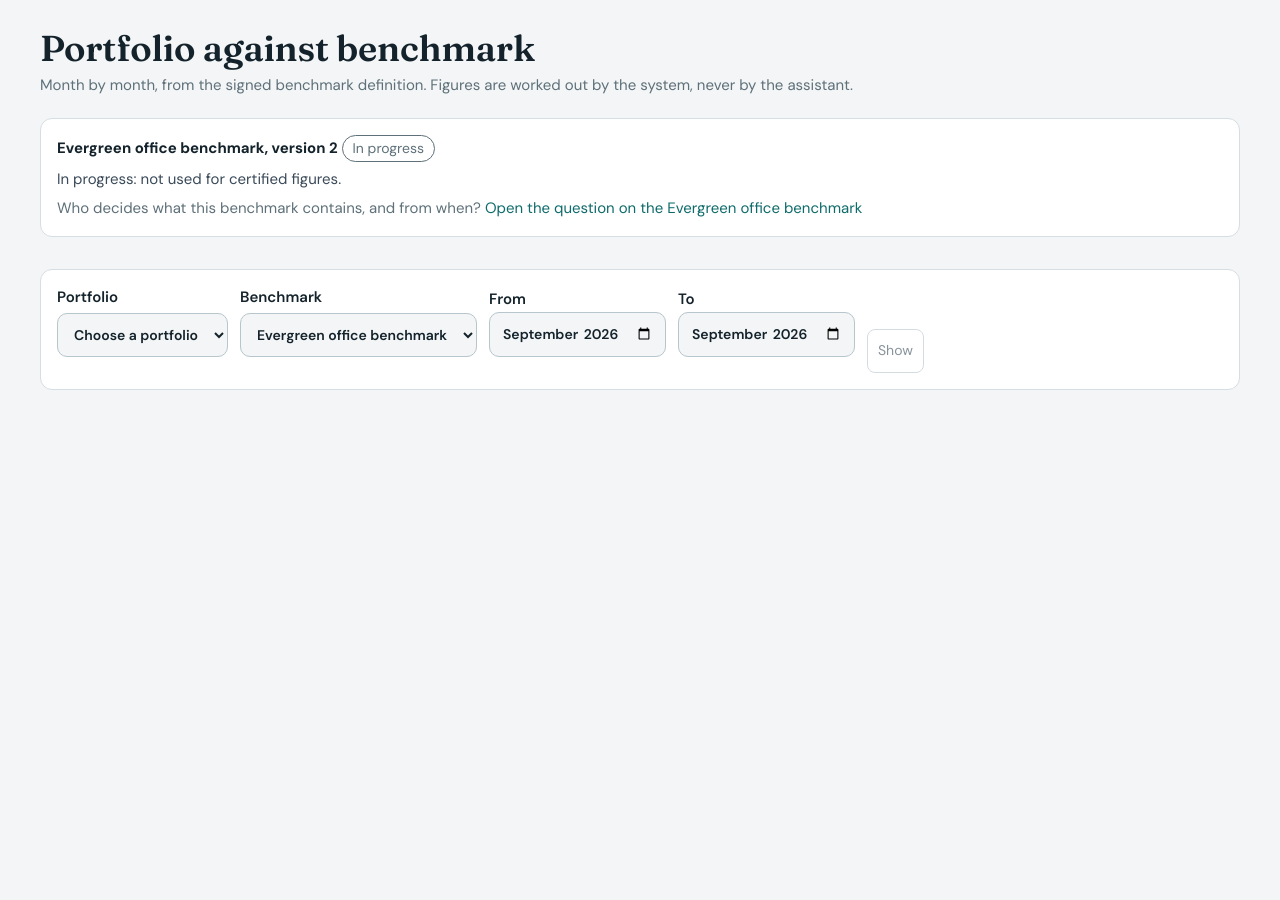
Test: offers the portfolios the person may see instead of a typed code
The width and height of the screenshot is (1280, 900).
Step 1. Select "Evergreen Liquid" in the dropdown labelled "Portfolio" → (142, 335), box [57, 313, 228, 357]
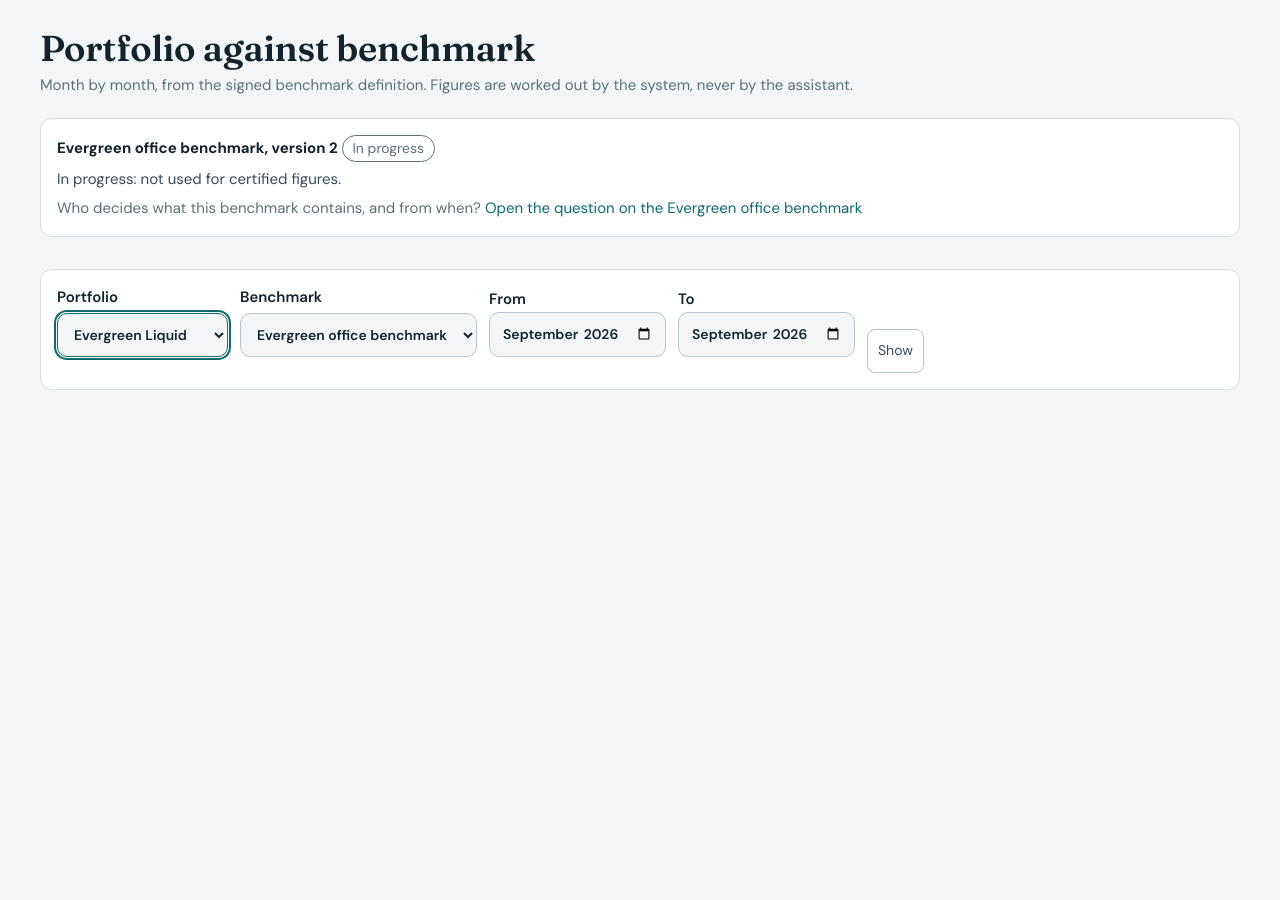
Step 2. Click the button "Show" → (895, 351), box [867, 329, 924, 373]
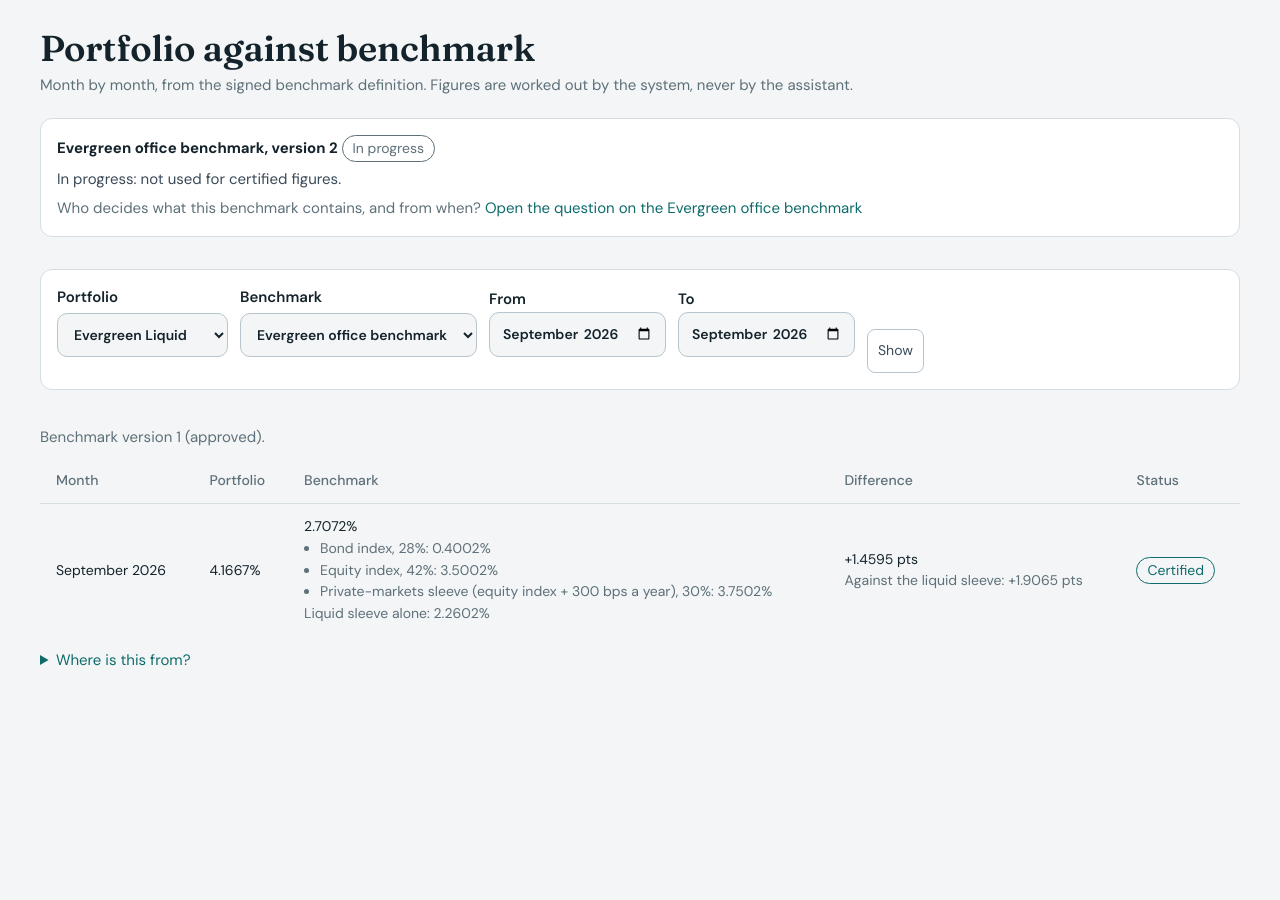
Now the text "September 2026" is shown, box [40, 504, 194, 637]
